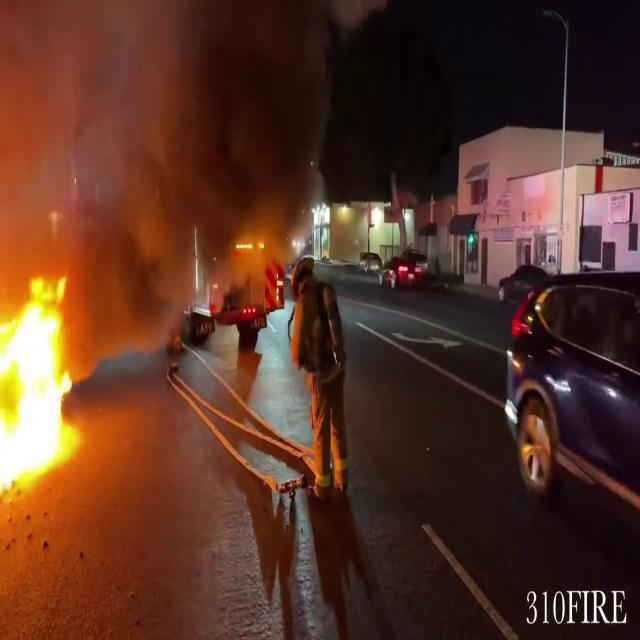Fire: (0, 274, 82, 504)
Smoke: (0, 0, 336, 316)
